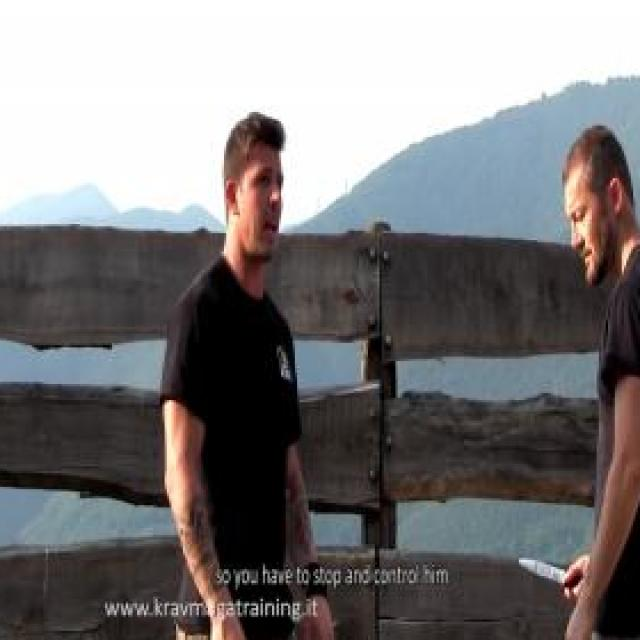knife: (508, 546, 580, 602)
